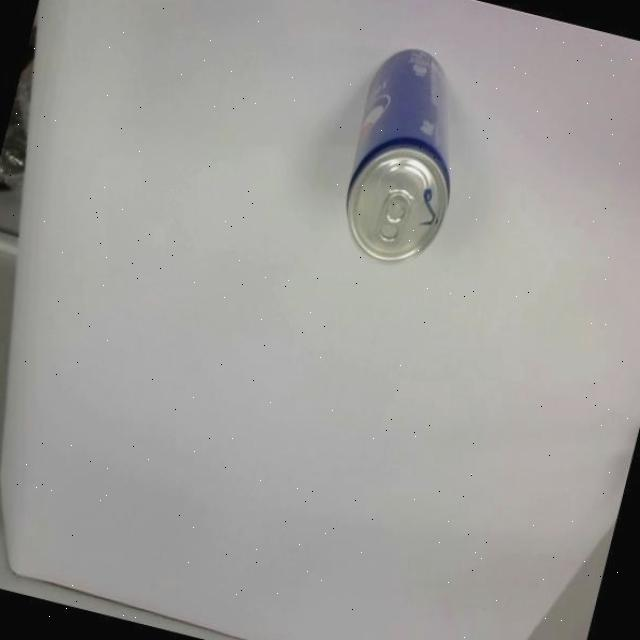debris: (326, 37, 483, 275)
